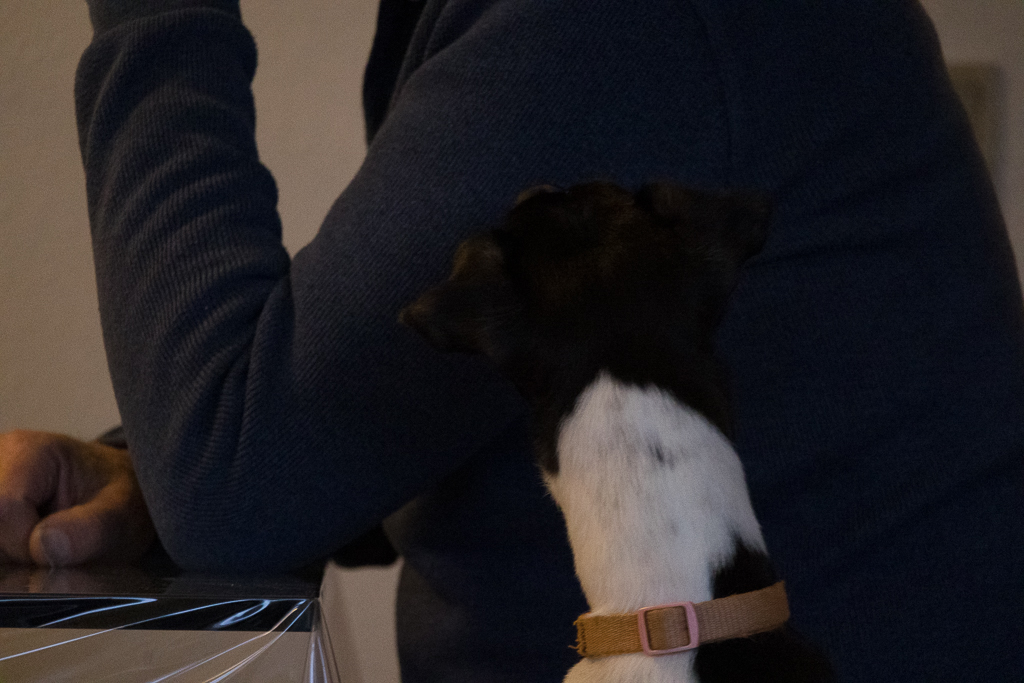Dog: (384, 147, 817, 683)
Humanoid: (0, 0, 1024, 683)
